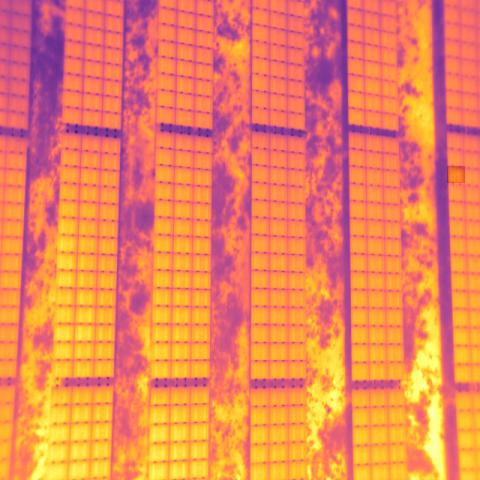fault: (447, 166, 465, 183)
